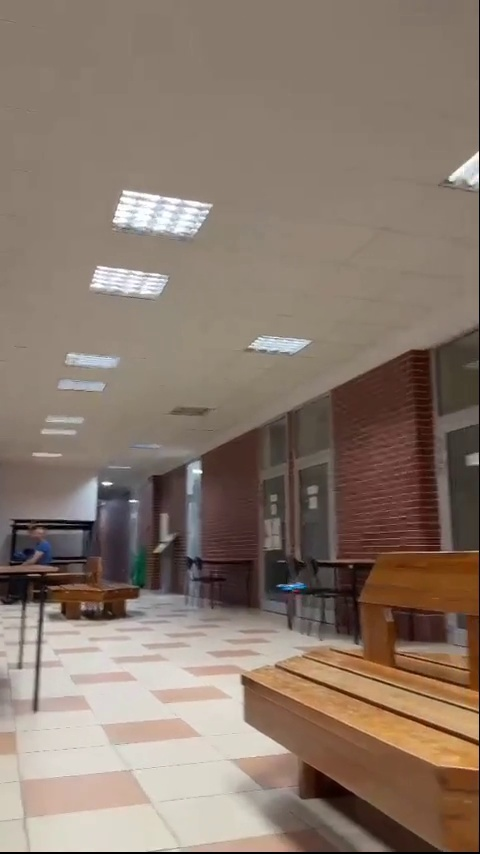drone: (278, 582, 307, 593)
no vest: (14, 519, 54, 577)
